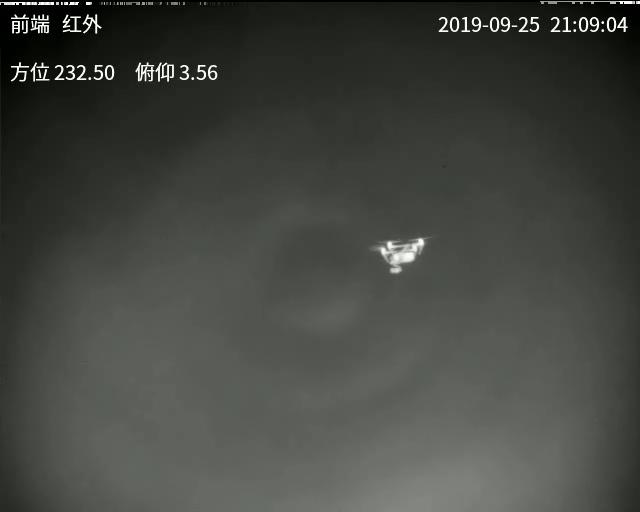uav: (374, 236, 425, 277)
